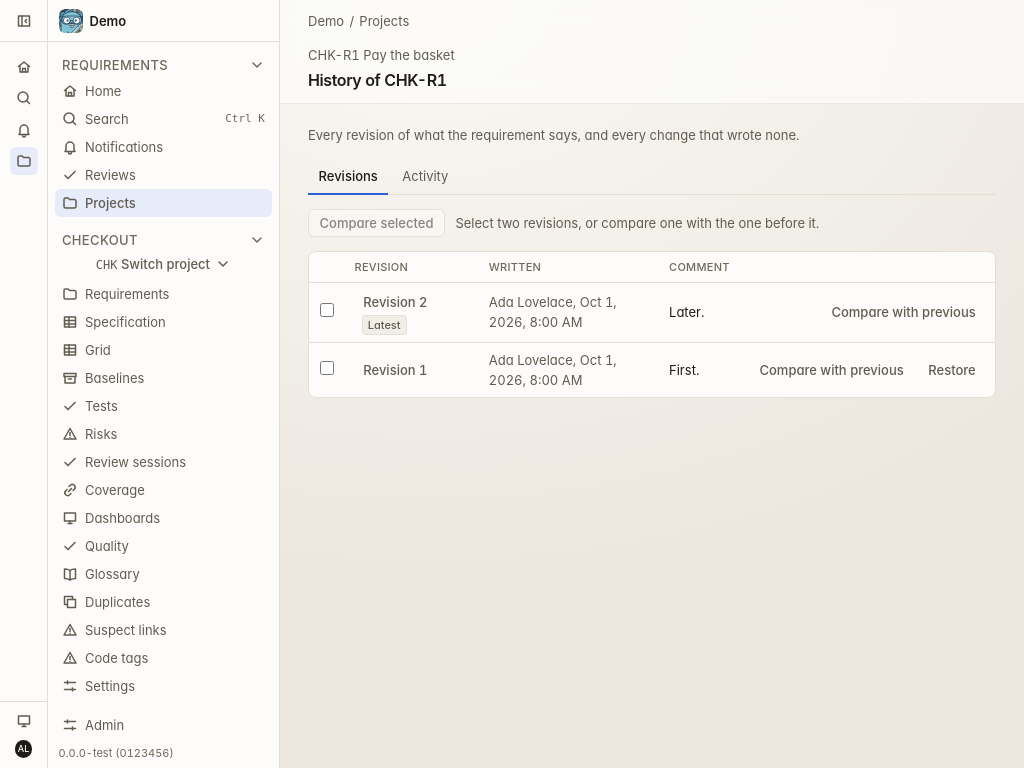
a requirement's history › restores a revision after asking, over the latest one
The width and height of the screenshot is (1024, 768).
Click the button "Restore": (952,370) [920,358,984,382]
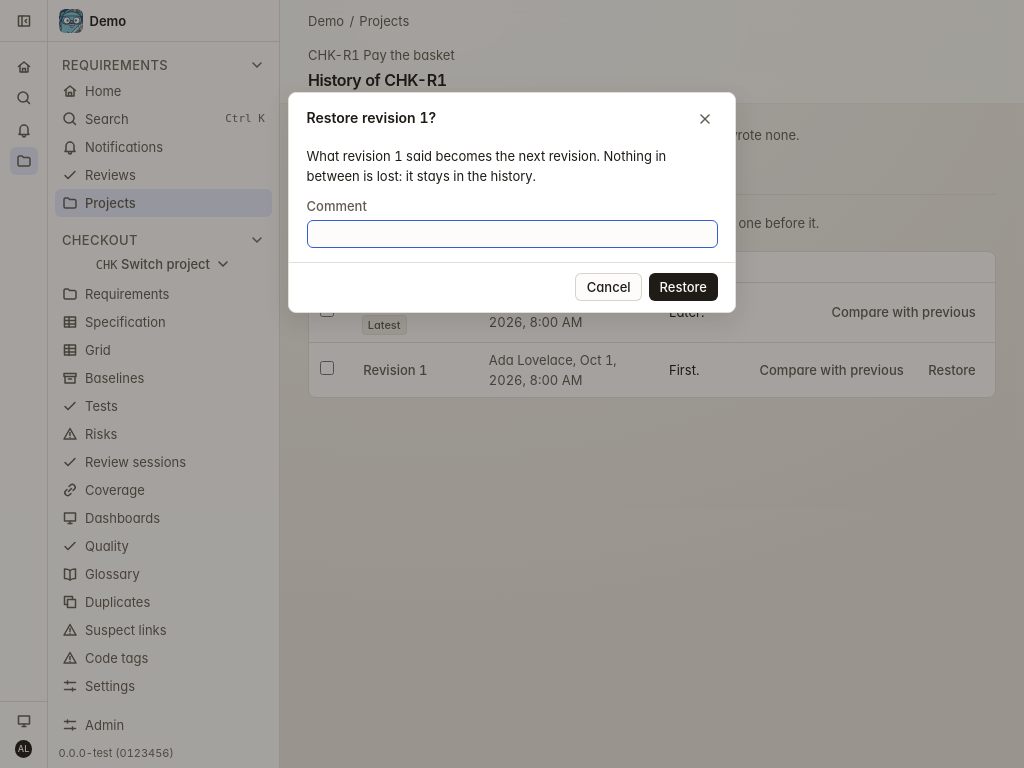
In the field labelled "Comment": (512,234) [306,220,718,248], type "Back."
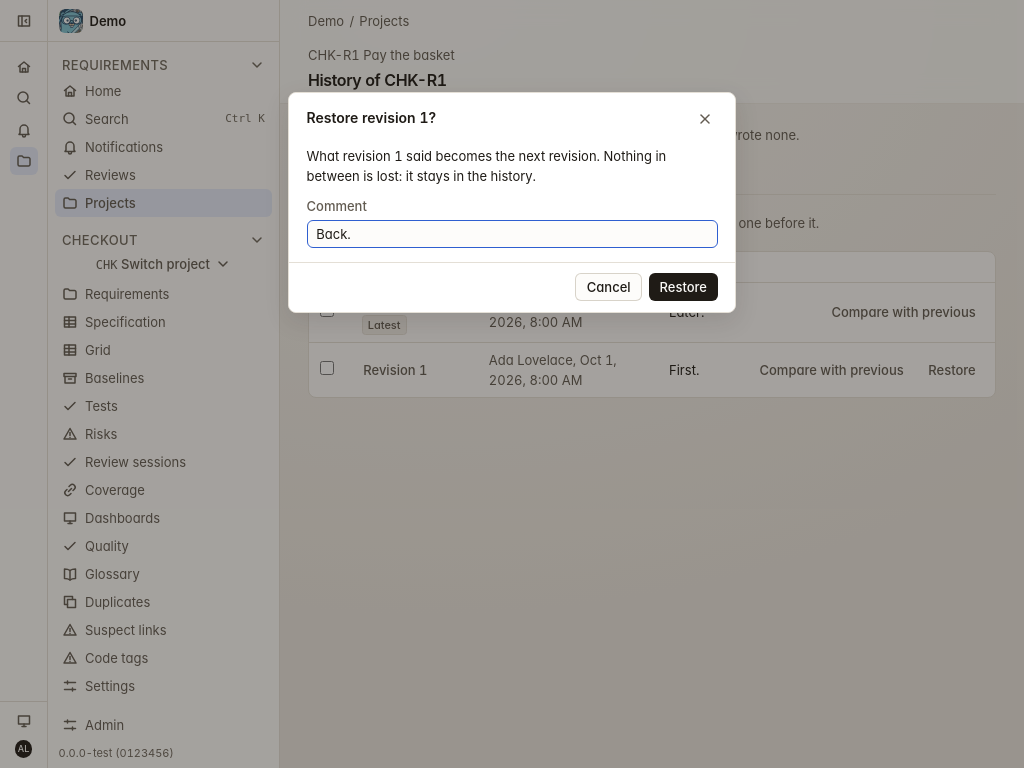
Click the button "Restore": (683,287) [649,273,718,301]
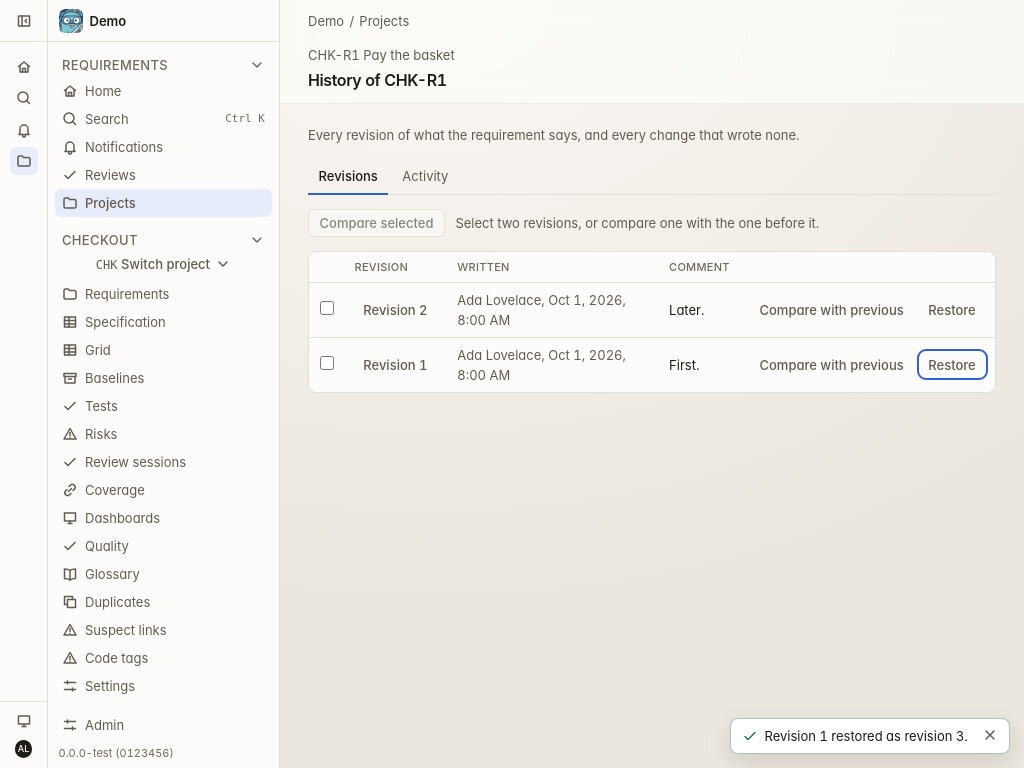
Result: the text "Revision 1 restored as revision 3." is shown at [764,726,970,746]
